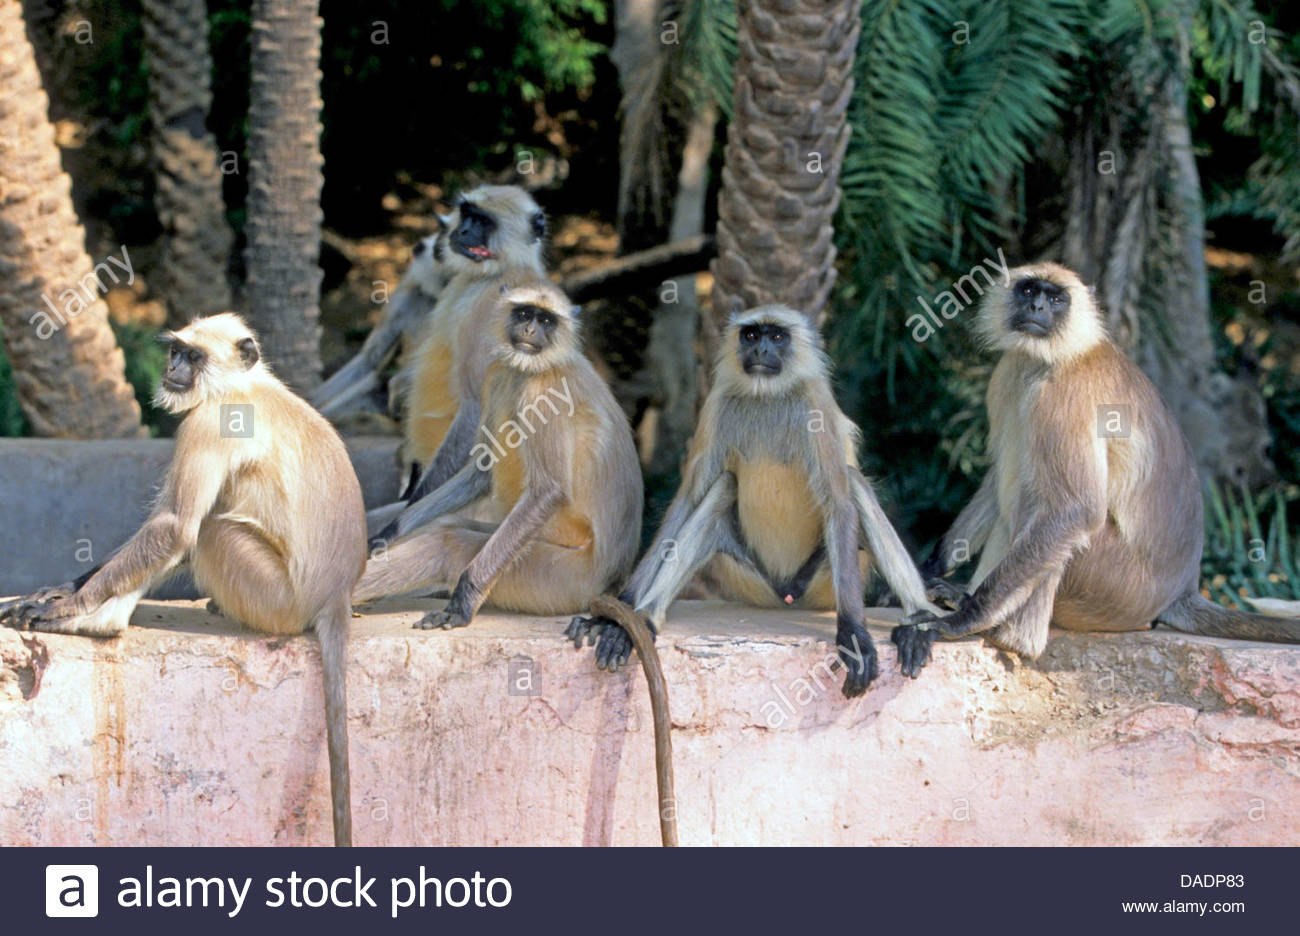langur: (8, 303, 367, 767), (902, 256, 1214, 665), (604, 305, 945, 671), (408, 279, 643, 669), (400, 144, 551, 552)
